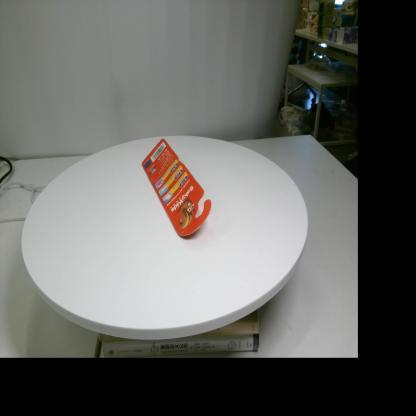Personal Hygiene: (141, 138, 212, 236)
